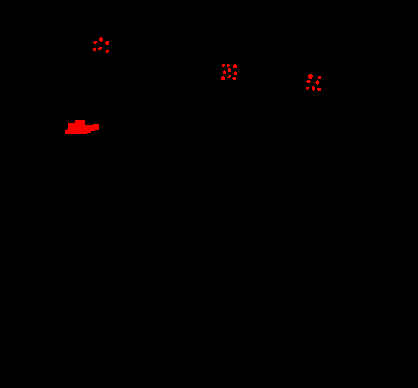Target: (65, 120, 99, 134), (308, 74, 313, 79), (99, 37, 103, 42), (315, 80, 319, 85), (105, 41, 109, 45), (233, 64, 237, 68), (221, 76, 225, 80), (306, 80, 311, 83), (312, 86, 315, 91), (93, 41, 97, 44), (98, 47, 102, 50), (228, 68, 231, 72), (223, 70, 226, 74), (234, 71, 237, 75), (227, 75, 231, 78), (232, 77, 236, 80), (317, 88, 321, 91), (93, 48, 96, 51), (106, 50, 109, 53), (222, 64, 225, 67), (227, 64, 230, 67), (318, 76, 321, 79), (306, 87, 309, 90)
